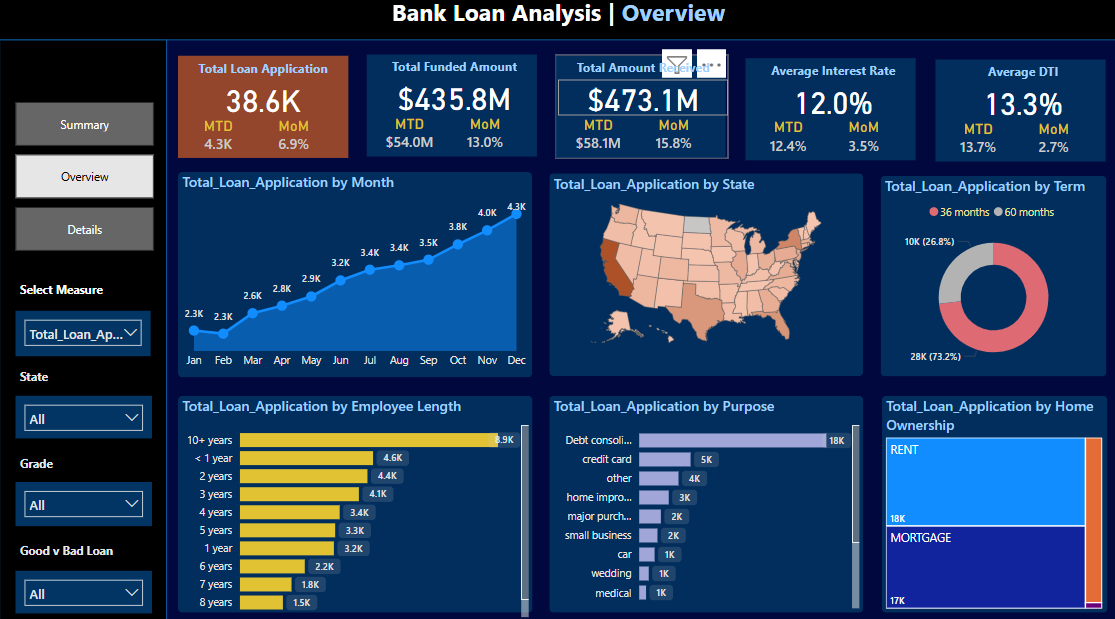

The page's visual inventory and layout, read from the dashboard file:
{"tool":"powerbi","page":{"name":"Overview","canvas":[1280,720],"ordinal":1},"visuals":[{"type":"shape","box":[206.2,206.2,405,235],"z":0},{"type":"shape","box":[0,0,1280,55.5],"z":1000},{"type":"shape","box":[1.4,54.8,191.9,665.1],"z":2000},{"type":"textbox","box":[1.4,0,1278.3,54.8],"z":3000},{"type":"shape","box":[206.3,72.6,195,117],"z":3000,"group":"g5"},{"type":"shape","box":[420.7,72.7,194.8,116.9],"z":3000,"group":"g2"},{"type":"shape","box":[637.8,74.1,194.8,116.9],"z":3000,"group":"g3"},{"type":"shape","box":[854.9,75.6,194.8,116.9],"z":3000,"group":"g4"},{"type":"shape","box":[1072,77,194.8,116.9],"z":3000,"group":"g6"},{"type":"group","id":"g1","title":"Group 1","box":[206.3,72.6,195,117],"z":4000},{"type":"card","fields":{"Values":["Bank_loan_data.Total Funded Amount"]},"box":[423.3,99.5,194.8,41.8],"z":4000,"group":"g2"},{"type":"card","fields":{"Values":["Bank_loan_data.Total Amount Received"]},"box":[640.4,100.9,194.8,41.8],"z":4000,"group":"g3"},{"type":"card","fields":{"Values":["Bank_loan_data.Total_Loan_Application"]},"box":[206.3,101.4,194.8,41.8],"z":4000,"group":"g5"},{"type":"card","fields":{"Values":["Bank_loan_data.Average Interest Rate"]},"box":[857.5,102.4,194.8,41.8],"z":4000,"group":"g4"},{"type":"card","fields":{"Values":["Bank_loan_data.Average DTI"]},"box":[1074.6,103.8,194.8,41.8],"z":4000,"group":"g6"},{"type":"group","id":"g2","title":"Group 2","box":[420.7,70.7,197.7,118.3],"z":5000},{"type":"textbox","box":[423.3,70.7,194.8,46.2],"z":5000,"group":"g2"},{"type":"textbox","box":[640.4,72.1,194.8,46.2],"z":5000,"group":"g3"},{"type":"textbox","box":[206.3,72.6,194.8,46.2],"z":5000,"group":"g5"},{"type":"textbox","box":[857.5,73.6,194.8,46.2],"z":5000,"group":"g4"},{"type":"textbox","box":[1074.6,75,194.8,46.2],"z":5000,"group":"g6"},{"type":"group","id":"g3","title":"Group 2","box":[637.8,72.1,197.7,118.3],"z":6000},{"type":"card","title":"MTD","fields":{"Values":["Bank_loan_data.MTD Funded Amount"]},"box":[436.3,141.1,66.4,45.8],"z":6000,"group":"g2"},{"type":"card","title":"MTD","fields":{"Values":["Bank_loan_data.MTD Total Amount Received"]},"box":[653.4,142.5,66.4,45.8],"z":6000,"group":"g3"},{"type":"card","title":"MTD","fields":{"Values":["Bank_loan_data.MTD Loan Application"]},"box":[219.3,143,66.4,45.8],"z":6000,"group":"g5"},{"type":"card","title":"MTD","fields":{"Values":["Bank_loan_data.MTD Average Interest Rate"]},"box":[870.5,144,66.4,45.8],"z":6000,"group":"g4"},{"type":"card","title":"MTD","fields":{"Values":["Bank_loan_data.MTD Average DTI"]},"box":[1087.6,145.4,66.4,45.8],"z":6000,"group":"g6"},{"type":"group","id":"g4","title":"Group 2","box":[854.9,73.6,197.7,118.3],"z":7000},{"type":"card","title":"MoM","fields":{"Values":["Bank_loan_data.MoM Total Funded Amount"]},"box":[522,141.1,67.6,45.8],"z":7000,"group":"g2"},{"type":"card","title":"MoM","fields":{"Values":["Bank_loan_data.MoM Total Amount Received"]},"box":[739.1,142.5,67.6,45.8],"z":7000,"group":"g3"},{"type":"card","title":"MoM","fields":{"Values":["Bank_loan_data.MoM"]},"box":[305,143,67.6,45.8],"z":7000,"group":"g5"},{"type":"card","title":"MoM","fields":{"Values":["Bank_loan_data.MoM Average Interest Rate"]},"box":[956.2,144,67.6,45.8],"z":7000,"group":"g4"},{"type":"card","title":"MoM","fields":{"Values":["Bank_loan_data.MoM Average DTI"]},"box":[1173.3,145.4,67.6,45.8],"z":7000,"group":"g6"},{"type":"group","id":"g5","title":"Group 2","box":[206.3,72.6,195,117],"z":7002,"group":"g1"},{"type":"group","id":"g6","title":"Group 2","box":[1072,75,197.7,118.3],"z":8000},{"type":"slicer","fields":{"Values":["Bank_loan_data.address_state"]},"box":[20.2,461.7,155.8,49.1],"z":9000},{"type":"textbox","box":[20.2,425.6,54.8,36.1],"z":10000},{"type":"slicer","fields":{"Values":["Bank_loan_data.grade"]},"box":[20.2,559.8,155.8,50.5],"z":11000},{"type":"textbox","box":[20.2,523.7,69.3,36.1],"z":12000},{"type":"slicer","fields":{"Values":["Bank_loan_data.Good v Bad Loan"]},"box":[20.2,660.8,155.8,49.1],"z":13000},{"type":"textbox","box":[20.2,624.7,147.2,36.1],"z":14000},{"type":"areaChart","fields":{"Y":["Bank_loan_data.Total_Loan_Application"],"Category":["Date_Table.Month"]},"box":[206.3,206.3,405.4,233.7],"z":15000},{"type":"slicer","fields":{"Values":["Select Measure.Select Measure"]},"box":[20.2,363.6,154.4,51.9],"z":16000},{"type":"textbox","box":[20.2,326.1,145.7,36.1],"z":17000},{"type":"shape","box":[630.5,207.8,359.2,232.3],"z":18000},{"type":"shape","box":[1008.5,210.6,258.3,229.4],"z":19000},{"type":"shapeMap","fields":{"Value":["Bank_loan_data.Total_Loan_Application"],"Category":["Bank_loan_data.address_state"]},"box":[630.5,207.8,359.2,207.8],"z":20000},{"type":"donutChart","fields":{"Y":["Bank_loan_data.Total_Loan_Application"],"Category":["Bank_loan_data.term"]},"box":[1008.5,210.6,258.3,229.4],"z":21000},{"type":"shape","box":[206.3,461.7,405.4,248.2],"z":22000},{"type":"barChart","fields":{"Y":["Bank_loan_data.Total_Loan_Application"],"Category":["Bank_loan_data.emp_length"]},"box":[206.3,461.7,405.4,258.3],"z":23000},{"type":"shape","box":[630.5,461.7,359.2,248.2],"z":23001},{"type":"barChart","fields":{"Category":["Bank_loan_data.purpose"],"Y":["Bank_loan_data.Total_Loan_Application"]},"box":[630.5,461.7,359.2,248.2],"z":23002},{"type":"shape","box":[1009.9,461.7,258.3,248.2],"z":23003},{"type":"treemap","fields":{"Group":["Bank_loan_data.home_ownership"],"Values":["Bank_loan_data.Total_Loan_Application"]},"box":[1009.9,461.7,256.8,248.2],"z":23004},{"type":"pageNavigator","box":[20.2,125.5,158.7,171.7],"z":23005}]}

Visuals, with their boxes in screenshot pixels (x1, y1, x2, y2), scaled from the page's 1280x720 canvas onto the 1115x619 screenshot:
shape: pyautogui.locateOnScreen(180, 177, 532, 379)
shape: pyautogui.locateOnScreen(0, 0, 1114, 48)
shape: pyautogui.locateOnScreen(1, 47, 168, 618)
textbox: pyautogui.locateOnScreen(1, 0, 1114, 47)
shape: pyautogui.locateOnScreen(180, 62, 350, 163)
shape: pyautogui.locateOnScreen(366, 63, 536, 163)
shape: pyautogui.locateOnScreen(556, 64, 725, 164)
shape: pyautogui.locateOnScreen(745, 65, 914, 165)
shape: pyautogui.locateOnScreen(934, 66, 1104, 167)
"Group 1" group: pyautogui.locateOnScreen(180, 62, 350, 163)
card - Bank_loan_data.Total Funded Amount: pyautogui.locateOnScreen(369, 86, 538, 121)
card - Bank_loan_data.Total Amount Received: pyautogui.locateOnScreen(558, 87, 728, 123)
card - Bank_loan_data.Total_Loan_Application: pyautogui.locateOnScreen(180, 87, 349, 123)
card - Bank_loan_data.Average Interest Rate: pyautogui.locateOnScreen(747, 88, 917, 124)
card - Bank_loan_data.Average DTI: pyautogui.locateOnScreen(936, 89, 1106, 125)
"Group 2" group: pyautogui.locateOnScreen(366, 61, 539, 162)
textbox: pyautogui.locateOnScreen(369, 61, 538, 101)
textbox: pyautogui.locateOnScreen(558, 62, 728, 102)
textbox: pyautogui.locateOnScreen(180, 62, 349, 102)
textbox: pyautogui.locateOnScreen(747, 63, 917, 103)
textbox: pyautogui.locateOnScreen(936, 64, 1106, 104)
"Group 2" group: pyautogui.locateOnScreen(556, 62, 728, 164)
"MTD" card: pyautogui.locateOnScreen(380, 121, 438, 161)
"MTD" card: pyautogui.locateOnScreen(569, 123, 627, 162)
"MTD" card: pyautogui.locateOnScreen(191, 123, 249, 162)
"MTD" card: pyautogui.locateOnScreen(758, 124, 816, 163)
"MTD" card: pyautogui.locateOnScreen(947, 125, 1005, 164)
"Group 2" group: pyautogui.locateOnScreen(745, 63, 917, 165)
"MoM" card: pyautogui.locateOnScreen(455, 121, 514, 161)
"MoM" card: pyautogui.locateOnScreen(644, 123, 703, 162)
"MoM" card: pyautogui.locateOnScreen(266, 123, 325, 162)
"MoM" card: pyautogui.locateOnScreen(833, 124, 892, 163)
"MoM" card: pyautogui.locateOnScreen(1022, 125, 1081, 164)
"Group 2" group: pyautogui.locateOnScreen(180, 62, 350, 163)
"Group 2" group: pyautogui.locateOnScreen(934, 64, 1106, 166)
slicer - Bank_loan_data.address_state: pyautogui.locateOnScreen(18, 397, 153, 439)
textbox: pyautogui.locateOnScreen(18, 366, 65, 397)
slicer - Bank_loan_data.grade: pyautogui.locateOnScreen(18, 481, 153, 525)
textbox: pyautogui.locateOnScreen(18, 450, 78, 481)
slicer - Bank_loan_data.Good v Bad Loan: pyautogui.locateOnScreen(18, 568, 153, 610)
textbox: pyautogui.locateOnScreen(18, 537, 146, 568)
areaChart - Bank_loan_data.Total_Loan_Application x Date_Table.Month: pyautogui.locateOnScreen(180, 177, 533, 378)
slicer - Select Measure.Select Measure: pyautogui.locateOnScreen(18, 313, 152, 357)
textbox: pyautogui.locateOnScreen(18, 280, 145, 311)
shape: pyautogui.locateOnScreen(549, 179, 862, 378)
shape: pyautogui.locateOnScreen(878, 181, 1104, 378)
shapeMap - Bank_loan_data.Total_Loan_Application x Bank_loan_data.address_state: pyautogui.locateOnScreen(549, 179, 862, 357)
donutChart - Bank_loan_data.Total_Loan_Application x Bank_loan_data.term: pyautogui.locateOnScreen(878, 181, 1104, 378)
shape: pyautogui.locateOnScreen(180, 397, 533, 610)
barChart - Bank_loan_data.Total_Loan_Application x Bank_loan_data.emp_length: pyautogui.locateOnScreen(180, 397, 533, 618)
shape: pyautogui.locateOnScreen(549, 397, 862, 610)
barChart - Bank_loan_data.purpose x Bank_loan_data.Total_Loan_Application: pyautogui.locateOnScreen(549, 397, 862, 610)
shape: pyautogui.locateOnScreen(880, 397, 1105, 610)
treemap - Bank_loan_data.home_ownership x Bank_loan_data.Total_Loan_Application: pyautogui.locateOnScreen(880, 397, 1103, 610)
pageNavigator: pyautogui.locateOnScreen(18, 108, 156, 256)
